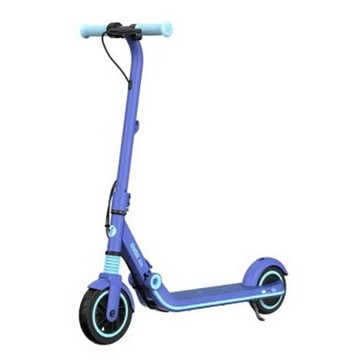scooter: (78, 20, 288, 347)
